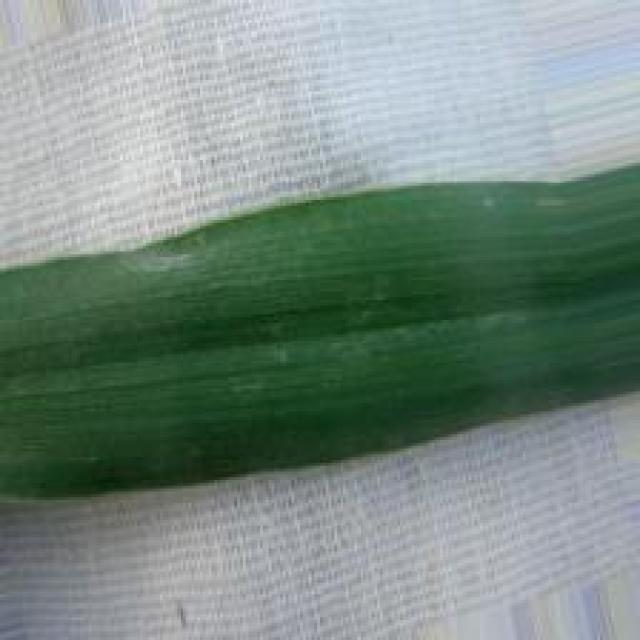Healthy: (0, 166, 640, 503)
